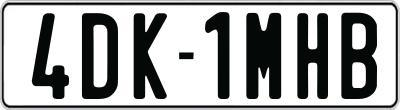1: (205, 9, 235, 98)
4: (32, 10, 75, 101)
B: (339, 12, 380, 103)
D: (79, 12, 117, 103)
H: (295, 11, 330, 99)
K: (131, 11, 166, 103)
M: (244, 11, 283, 102)
